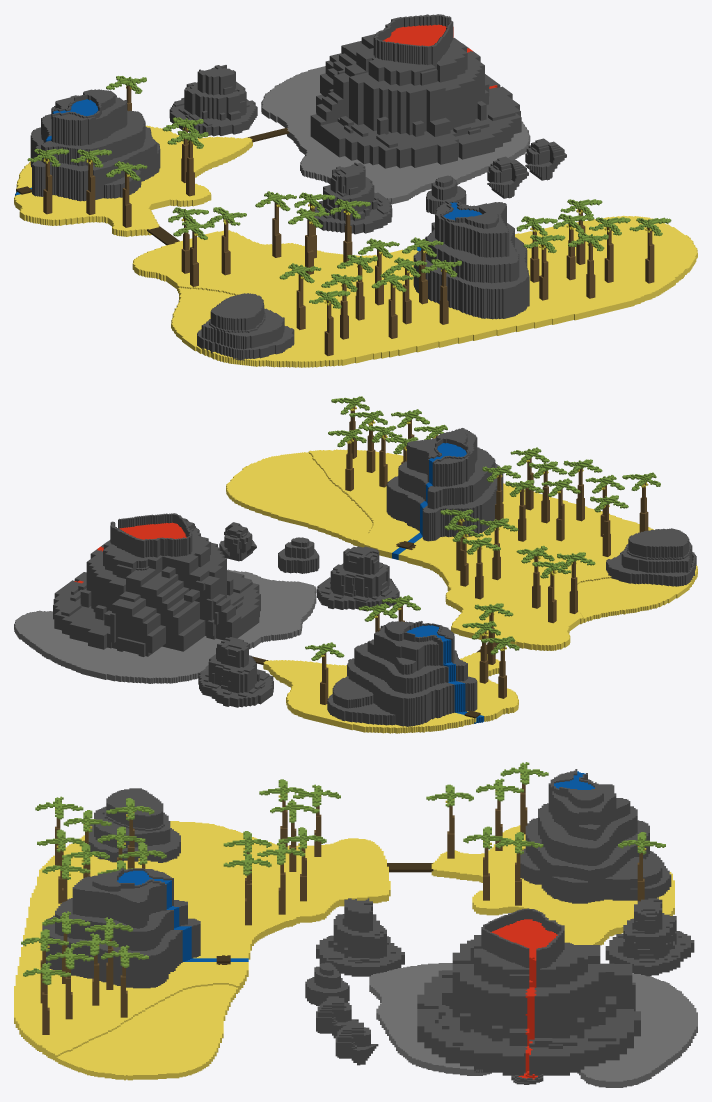
The model's file is world2.glb.
The picture shows the model from 3 angles, top to bottom: view 1: azimuth 30°, elevation 25°; view 2: azimuth 150°, elevation 25°; view 3: azimuth 270°, elevation 25°; orthographic projection. The views are drawn at different scales.
Visible parts, largest first — view 1: Untitled.003, Untitled.005, Untitled.019, Untitled.045, Untitled.002, Untitled.052, Untitled.042, Untitled.011, Untitled.044, Untitled.041, Untitled.029, Untitled.055 (+43 smaller); view 2: Untitled.005, Untitled.001, Untitled.019, Untitled.052, Untitled, Untitled.044, Untitled.045, Untitled.041, Untitled.049, Untitled.011, Untitled.046, Untitled.030 (+37 smaller); view 3: Untitled.005, Untitled.019, Untitled.002, Untitled, Untitled.052, Untitled.042, Untitled.041, Untitled.044, Untitled.046, Untitled.030, Untitled.029, Untitled.048 (+39 smaller).
Part boxes in pixels (left/top/right/bottom): Untitled.003: left=320, top=38, right=458, bottom=168; Untitled.005: left=30, top=89, right=160, bottom=201; Untitled.019: left=413, top=200, right=529, bottom=319; Untitled.045: left=290, top=281, right=503, bottom=363; Untitled.002: left=411, top=20, right=521, bottom=159; Untitled.052: left=208, top=240, right=413, bottom=311; Untitled.042: left=490, top=245, right=646, bottom=334; Untitled.011: left=197, top=293, right=294, bottom=360; Untitled.044: left=137, top=251, right=289, bottom=342; Untitled.041: left=585, top=223, right=697, bottom=300; Untitled.029: left=169, top=65, right=257, bottom=136; Untitled.055: left=300, top=143, right=476, bottom=204; Untitled.005: left=327, top=621, right=477, bottom=726; Untitled.001: left=110, top=537, right=241, bottom=656; Untitled.019: left=386, top=428, right=503, bottom=541; Untitled.052: left=412, top=536, right=579, bottom=623; Untitled: left=53, top=521, right=156, bottom=649; Untitled.044: left=503, top=567, right=679, bottom=645; Untitled.045: left=466, top=486, right=638, bottom=566; Untitled.041: left=229, top=449, right=378, bottom=502; Untitled.049: left=83, top=635, right=272, bottom=683; Untitled.011: left=606, top=528, right=696, bottom=586; Untitled.046: left=290, top=503, right=441, bottom=564; Untitled.030: left=316, top=546, right=399, bottom=611; Untitled.005: left=520, top=769, right=671, bottom=903; Untitled.019: left=42, top=868, right=200, bottom=988; Untitled.002: left=417, top=927, right=529, bottom=1075; Untitled: left=529, top=927, right=640, bottom=1075; Untitled.052: left=174, top=875, right=351, bottom=950; Untitled.042: left=14, top=950, right=173, bottom=1029; Untitled.041: left=19, top=1025, right=173, bottom=1080; Untitled.044: left=174, top=821, right=351, bottom=874; Untitled.046: left=174, top=950, right=250, bottom=1026; Untitled.030: left=316, top=898, right=404, bottom=976; Untitled.029: left=605, top=898, right=694, bottom=976; Untitled.048: left=529, top=1025, right=697, bottom=1087.
Size of the model in its own units: 34.9 by 6.5 by 38.5.
57 materials, 57 textured.
